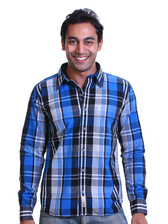clothoes: (18, 60, 150, 219)
